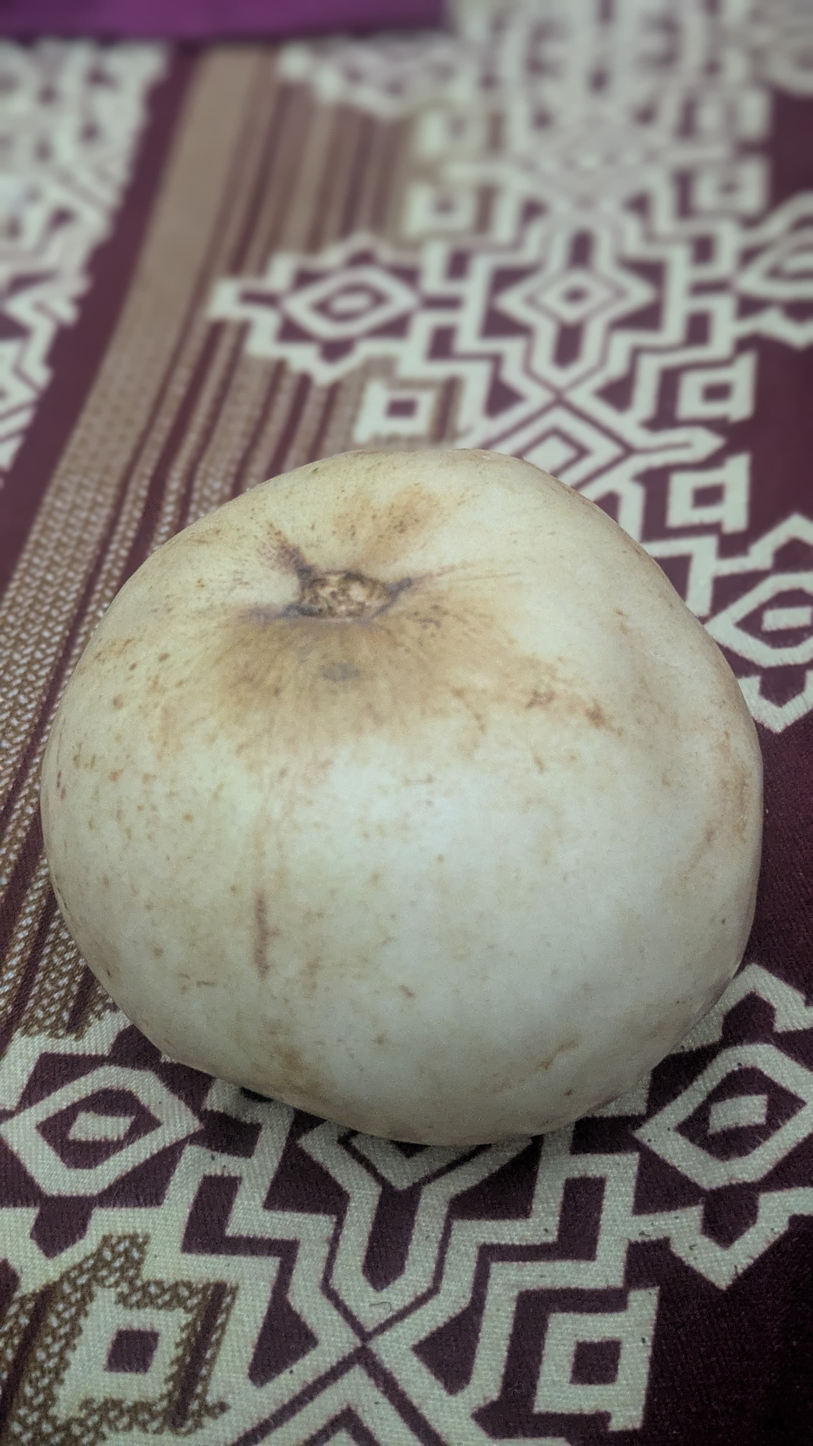guava: (72, 168, 608, 1201)
